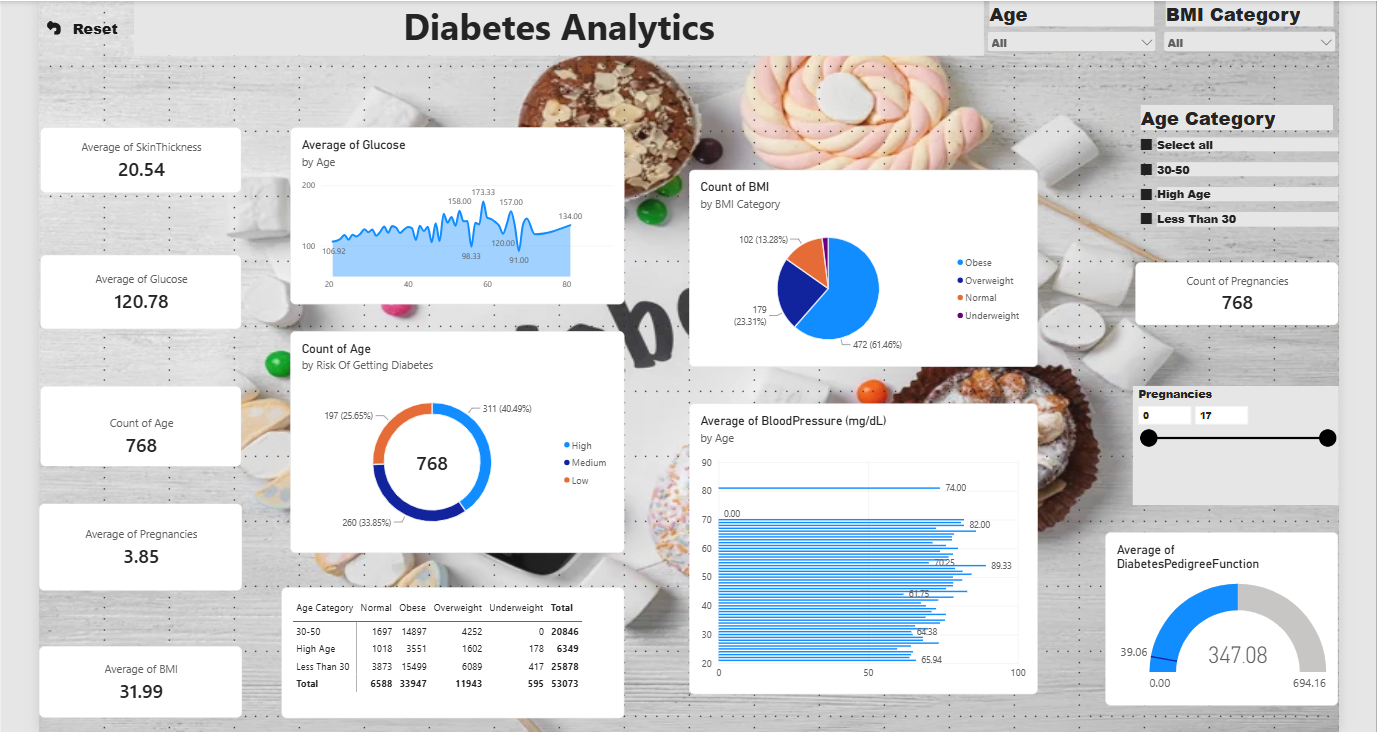

This screenshot's page, from the dashboard's own definition file:
{"tool":"powerbi","page":{"name":"PAGE 1","canvas":[1920,1080],"ordinal":0},"visuals":[{"type":"cardVisual","fields":{"Data":["Avg(diabetes new.BMI)"]},"box":[0,953.2,300,106.4],"z":1000},{"type":"cardVisual","fields":{"Data":["Avg(diabetes new.Glucose)"]},"box":[2.1,374.5,297.9,110.6],"z":2000},{"type":"cardVisual","fields":{"Data":["Avg(diabetes new.SkinThickness)"]},"box":[2.1,187.2,297.9,97.9],"z":3000},{"type":"cardVisual","fields":{"Data":["CountNonNull(diabetes new.Pregnancies)"]},"box":[1619.1,385.1,300,93.6],"z":4000},{"type":"cardVisual","fields":{"Data":["Avg(diabetes new.Pregnancies)"]},"box":[0,742.6,300,129.8],"z":5000},{"type":"slicer","fields":{"Values":["diabetes new.Age Category"]},"box":[1619.1,153.2,300,210.6],"z":6000},{"type":"actionButton","box":[0,0,140.4,80.9],"z":7000},{"type":"slicer","fields":{"Values":["diabetes new.Pregnancies"]},"box":[1615.1,567.9,303.8,175.5],"z":8000},{"type":"donutChart","fields":{"Category":["diabetes new.Risk Of Getting Diabetes"],"Y":["CountNonNull(diabetes new.Age)"]},"box":[370.2,487.2,493.6,327.7],"z":9000},{"type":"areaChart","fields":{"Category":["diabetes new.Age"],"Y":["Avg(diabetes new.Glucose)"]},"box":[370.2,187.2,493.6,261.7],"z":10000},{"type":"pieChart","fields":{"Category":["diabetes new.BMI Category"],"Y":["CountNonNull(diabetes new.BMI)"]},"box":[959.6,248.9,514.9,291.5],"z":10001},{"type":"gauge","fields":{"Y":["Avg(diabetes new.DiabetesPedigreeFunction)"]},"box":[1575.5,784.9,344.3,255.7],"z":10002},{"type":"cardVisual","fields":{"Data":["CountNonNull(diabetes new.Age)"]},"box":[2.1,568.1,297.9,119.1],"z":10003},{"type":"pivotTable","fields":{"Columns":["diabetes new.BMI Category"],"Rows":["diabetes new.Age Category"],"Values":["Sum(diabetes new.BloodPressure (mg/dL))"]},"box":[357.4,866,506.4,193.6],"z":10004},{"type":"clusteredBarChart","fields":{"Category":["diabetes new.Age"],"Y":["Avg(diabetes new.BloodPressure (mg/dL))"]},"box":[959.6,593.6,514.9,429.8],"z":10005},{"type":"slicer","fields":{"Values":["diabetes new.Age"]},"box":[1395.7,0,259.6,80.9],"z":10006},{"type":"slicer","fields":{"Values":["diabetes new.BMI Category"]},"box":[1655.3,0,263.8,80.9],"z":10007},{"type":"textbox","box":[140.4,0,1255.3,80.9],"z":10008}]}

Visuals, with their boxes on the page's 1920x1080 design canvas (x1, y1, x2, y2). These are canvas units, not pixel positions in the 1377x732 screenshot, which may show the page scaled, cropped or inside an application window:
cardVisual - Avg(diabetes new.BMI): <region>0, 953, 300, 1060</region>
cardVisual - Avg(diabetes new.Glucose): <region>2, 374, 300, 485</region>
cardVisual - Avg(diabetes new.SkinThickness): <region>2, 187, 300, 285</region>
cardVisual - CountNonNull(diabetes new.Pregnancies): <region>1619, 385, 1919, 479</region>
cardVisual - Avg(diabetes new.Pregnancies): <region>0, 743, 300, 872</region>
slicer - diabetes new.Age Category: <region>1619, 153, 1919, 364</region>
actionButton: <region>0, 0, 140, 81</region>
slicer - diabetes new.Pregnancies: <region>1615, 568, 1919, 743</region>
donutChart - diabetes new.Risk Of Getting Diabetes x CountNonNull(diabetes new.Age): <region>370, 487, 864, 815</region>
areaChart - diabetes new.Age x Avg(diabetes new.Glucose): <region>370, 187, 864, 449</region>
pieChart - diabetes new.BMI Category x CountNonNull(diabetes new.BMI): <region>960, 249, 1474, 540</region>
gauge - Avg(diabetes new.DiabetesPedigreeFunction): <region>1576, 785, 1920, 1041</region>
cardVisual - CountNonNull(diabetes new.Age): <region>2, 568, 300, 687</region>
pivotTable - diabetes new.BMI Category x diabetes new.Age Category: <region>357, 866, 864, 1060</region>
clusteredBarChart - diabetes new.Age x Avg(diabetes new.BloodPressure (mg/dL)): <region>960, 594, 1474, 1023</region>
slicer - diabetes new.Age: <region>1396, 0, 1655, 81</region>
slicer - diabetes new.BMI Category: <region>1655, 0, 1919, 81</region>
textbox: <region>140, 0, 1396, 81</region>
